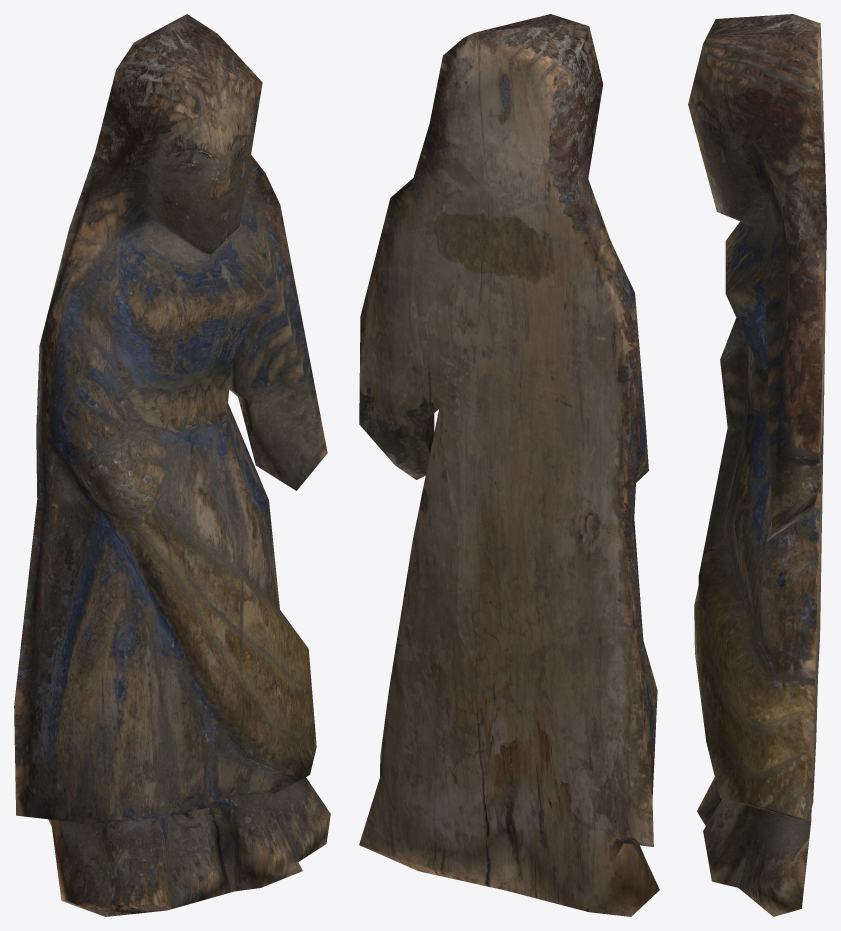
Rendered from Statue.obj.
3 renders of one model, left to right at view 1: azimuth 30°, elevation 25°; view 2: azimuth 150°, elevation 25°; view 3: azimuth 270°, elevation 25°, orthographic. The views are drawn at different scales.
Visible parts, largest first — view 1: Aset_props__S_vejhfcdaw_00_lod5; view 2: Aset_props__S_vejhfcdaw_00_lod5; view 3: Aset_props__S_vejhfcdaw_00_lod5.
Part boxes in pixels (box(x1,y1,x2,y2)): Aset_props__S_vejhfcdaw_00_lod5: box(14, 14, 330, 916); Aset_props__S_vejhfcdaw_00_lod5: box(359, 14, 659, 916); Aset_props__S_vejhfcdaw_00_lod5: box(688, 14, 826, 916).
Bounding box in the file's own units: 5.33 × 14.73 × 2.21.
1 material, 1 textured.
